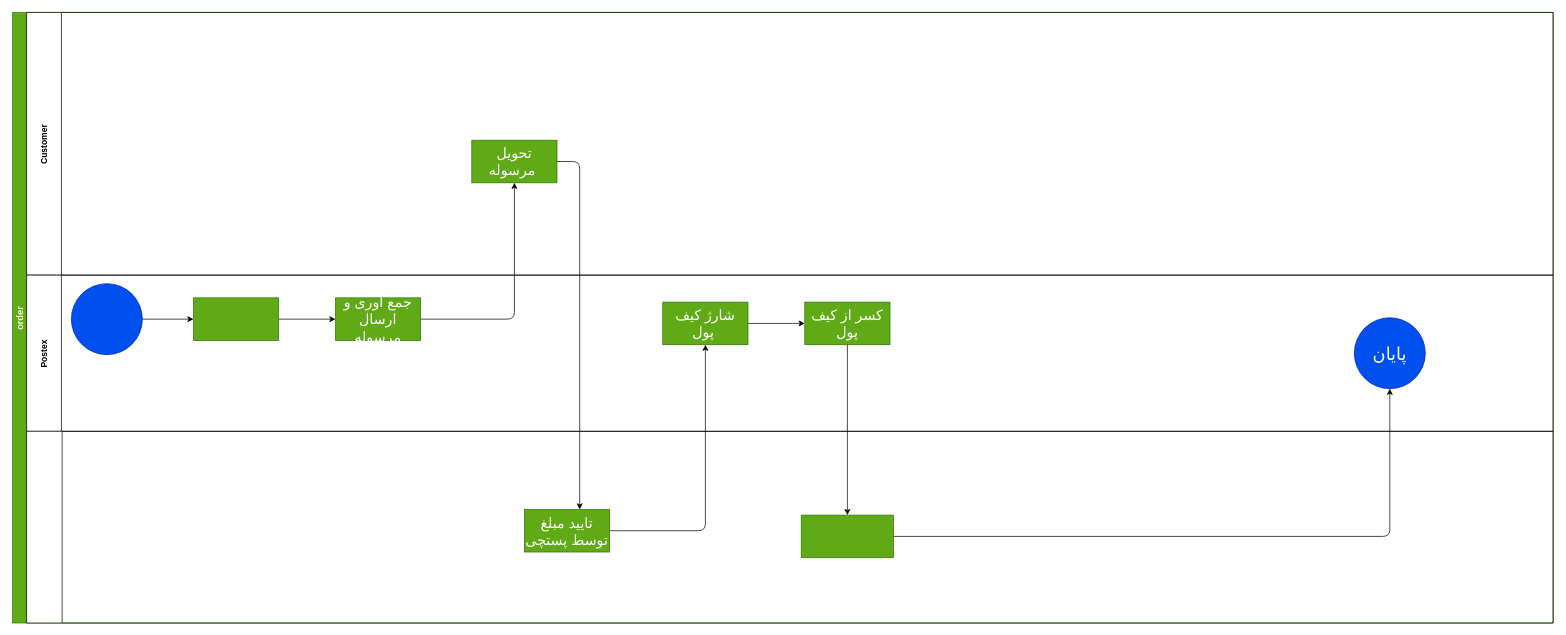
Image size: 1566x635. Some labels were removed from this diagram. The shapes that lost their labels are listed below. From the top down, each one's box as (x1, y1, x2, y2) in pixels, then its label:
(71, 283, 142, 355): شروع
(193, 297, 279, 340): ثبت سفارش
(26, 431, 1553, 623): Vendor
(801, 514, 894, 558): تسویه به شماره حساب شبا مشتری
